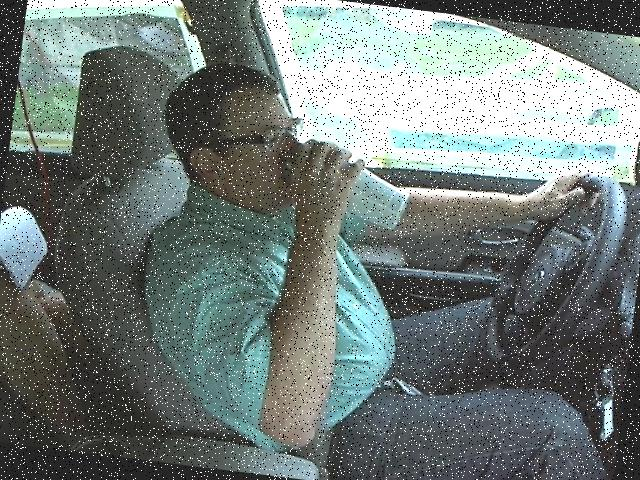c4 - Drinking: (115, 47, 639, 479)
